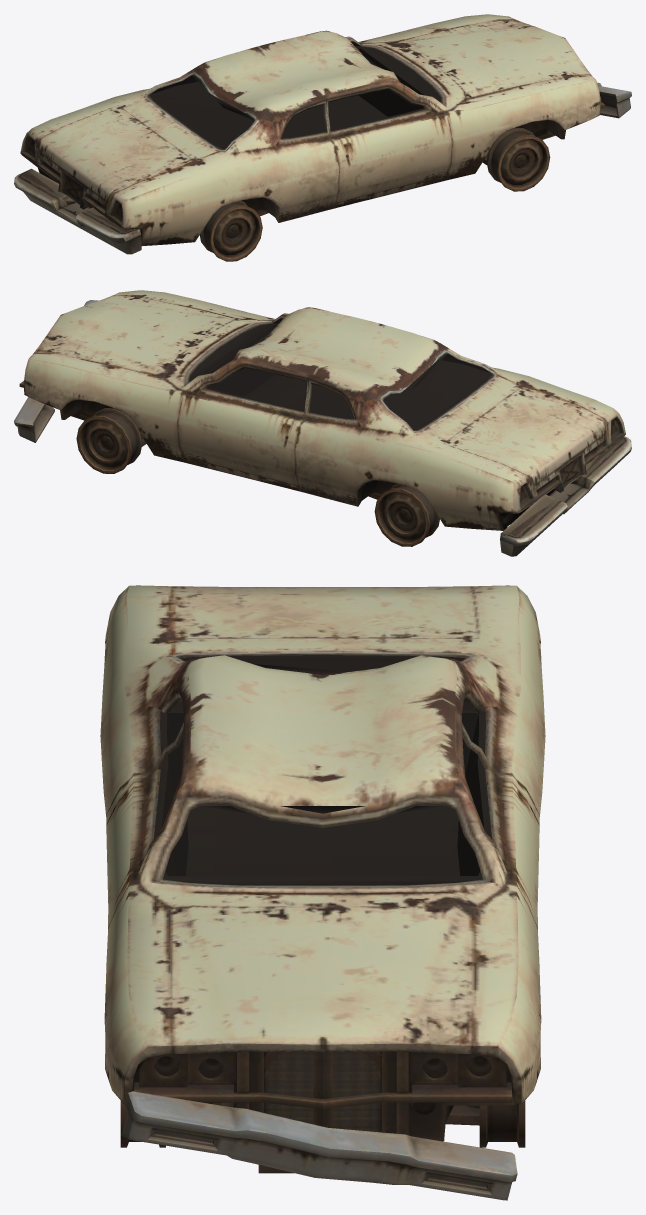
File: Uptown_WreckCar01.fbx
The picture shows the model from 3 angles, top to bottom: view 1: azimuth 30°, elevation 25°; view 2: azimuth 150°, elevation 25°; view 3: azimuth 270°, elevation 25°; orthographic projection. The views are drawn at different scales.
Parts seen in each view (by area): view 1: ItemBox_WreckCar_White_01_0_3; view 2: ItemBox_WreckCar_White_01_0_3; view 3: ItemBox_WreckCar_White_01_0_3.
Part boxes in pixels (x1=…): ItemBox_WreckCar_White_01_0_3: x1=14, y1=14, x2=631, y2=261; ItemBox_WreckCar_White_01_0_3: x1=14, y1=290, x2=631, y2=556; ItemBox_WreckCar_White_01_0_3: x1=100, y1=585, x2=545, y2=1200.
Bounding box in the file's own units: 547 × 131 × 202.
1 material, 1 textured.
